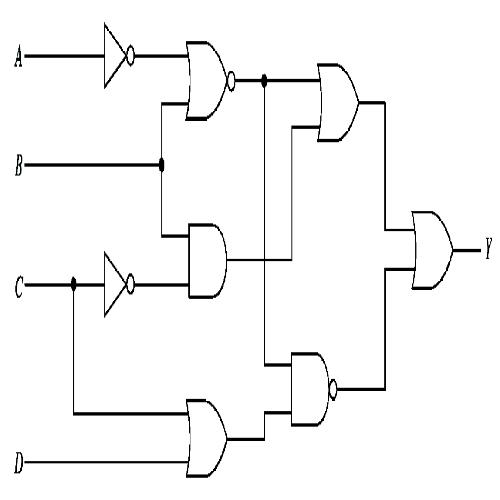and: (185, 216, 230, 306)
nand: (287, 345, 340, 432), (181, 393, 231, 482)
nor: (181, 32, 239, 127)
not: (100, 242, 139, 325), (100, 16, 138, 93)
or: (408, 204, 458, 296), (313, 57, 363, 149)
